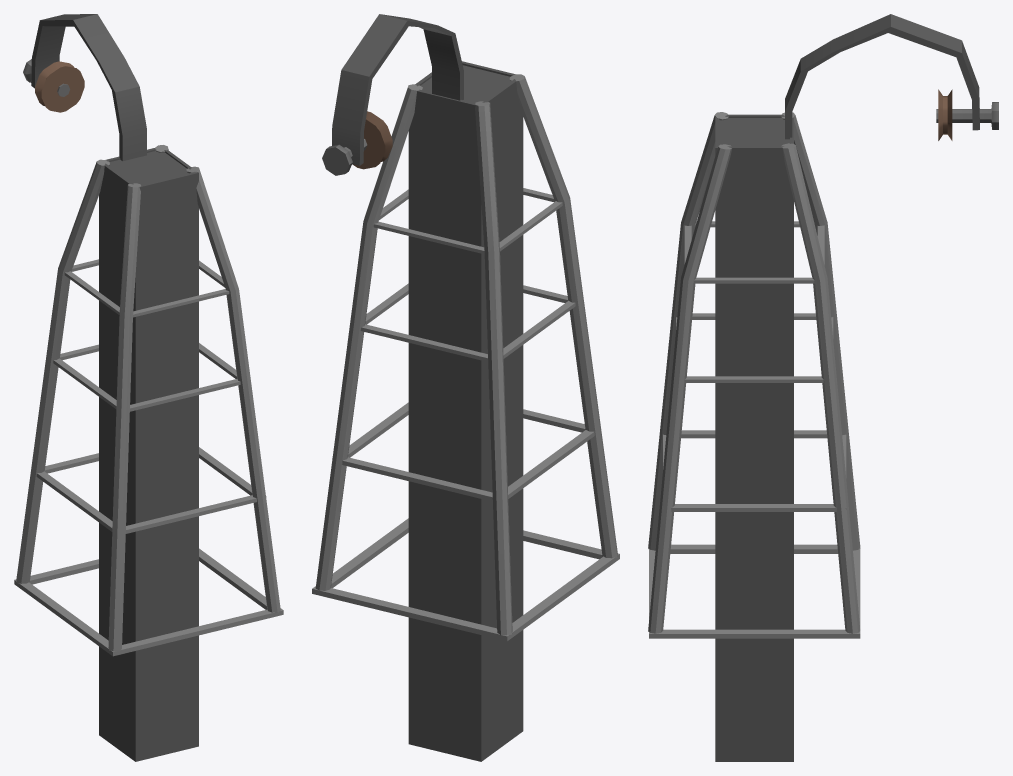
File: snow_ski_tower.fbx
3 views of the same model, side by side, from view 1: azimuth 30°, elevation 25°; view 2: azimuth 150°, elevation 25°; view 3: azimuth 270°, elevation 25° (orthographic). The views are drawn at different scales.
Parts seen in each view (by area): view 1: pPipe4, pCylinder2, pCylinder4, pCylinder1, pCube1, pPipe1, pPipe2, pPipe3, pCylinder6, pCube2, pPipe5; view 2: pPipe4, pCylinder1, pCylinder3, pCylinder2, pCube1, pPipe1, pPipe2, pPipe3, pPipe5, pCube2, pCylinder6, pCylinder5; view 3: pPipe4, pCylinder3, pCylinder4, pCube1, pCylinder2, pPipe1, pCylinder1, pPipe2, pCube2, pPipe5, pPipe3, pCylinder5 (+1 smaller).
Part boxes in pixels (<box>): pPipe4: <box>99,148,198,761</box>; pCylinder2: <box>108,183,140,651</box>; pCylinder4: <box>186,166,280,613</box>; pCylinder1: <box>16,159,109,583</box>; pCube1: <box>31,14,146,161</box>; pPipe1: <box>14,548,283,656</box>; pPipe2: <box>36,447,266,533</box>; pPipe3: <box>53,343,240,411</box>; pCylinder6: <box>35,61,84,112</box>; pCube2: <box>109,151,188,184</box>; pPipe5: <box>64,259,229,317</box>; pPipe4: <box>408,61,523,761</box>; pCylinder1: <box>474,101,512,635</box>; pCylinder3: <box>315,84,422,591</box>; pCylinder2: <box>509,74,617,558</box>; pCube1: <box>332,14,463,165</box>; pPipe1: <box>312,518,619,641</box>; pPipe2: <box>332,402,594,501</box>; pPipe3: <box>360,283,575,361</box>; pPipe5: <box>373,188,562,254</box>; pCube2: <box>420,65,510,102</box>; pCylinder6: <box>352,111,392,169</box>; pCylinder5: <box>322,139,367,175</box>; pPipe4: <box>715,114,793,761</box>; pCylinder3: <box>781,143,860,633</box>; pCylinder4: <box>648,144,732,633</box>; pCube1: <box>785,14,979,139</box>; pCylinder2: <box>648,112,728,550</box>; pPipe1: <box>649,544,860,638</box>; pCylinder1: <box>781,112,860,550</box>; pPipe2: <box>663,430,846,511</box>; pCube2: <box>719,118,789,146</box>; pPipe5: <box>684,221,824,283</box>; pPipe3: <box>676,313,833,382</box>; pCylinder5: <box>936,102,998,129</box>.
Bounding box in the file's own units: 3.13 × 11.79 × 5.17.
